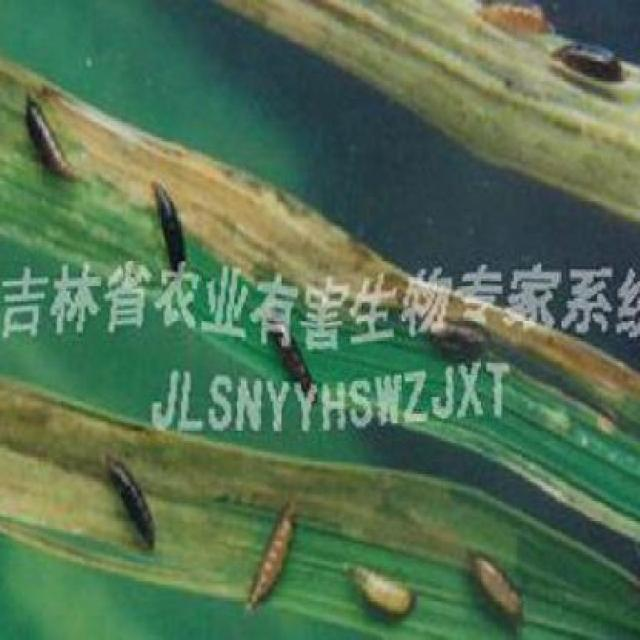whorl-maggot: (234, 495, 304, 620), (96, 448, 162, 560), (458, 536, 532, 626), (22, 92, 82, 195), (342, 548, 420, 627), (550, 28, 625, 87), (146, 174, 191, 254), (468, 0, 550, 42)
